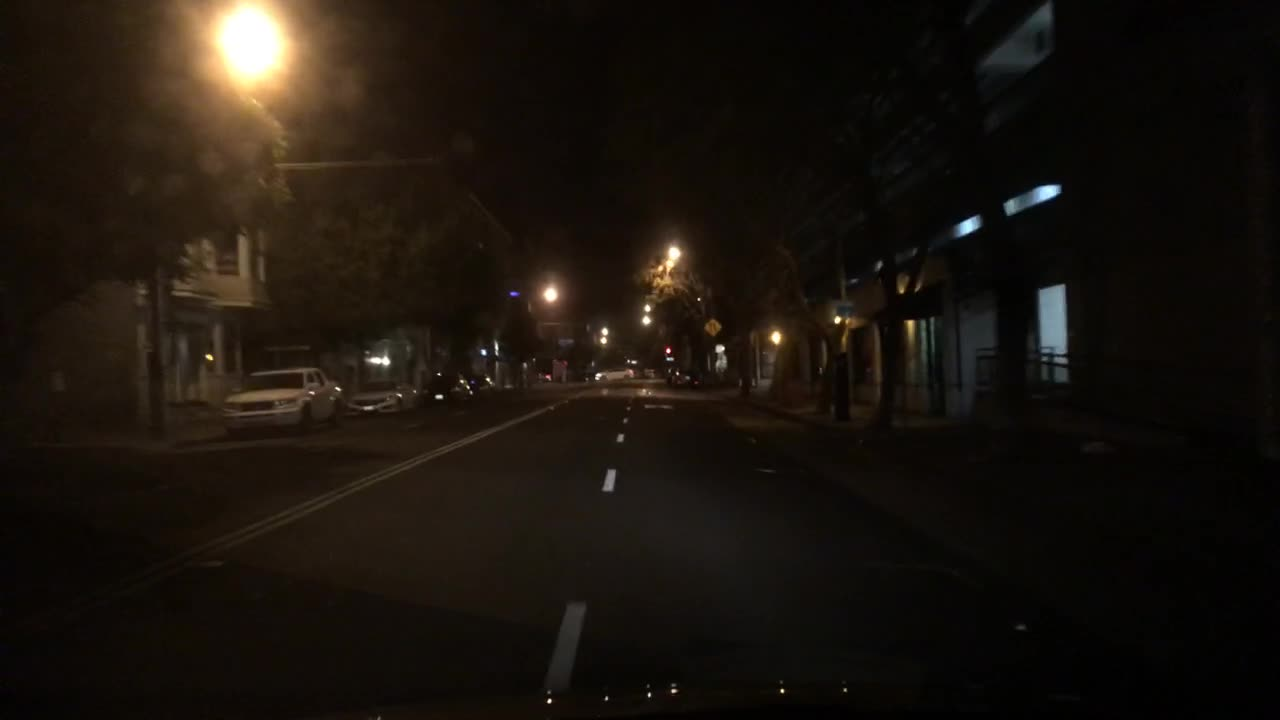car: (219, 367, 347, 437), (346, 377, 419, 417), (420, 369, 474, 411), (466, 369, 496, 398), (594, 363, 633, 382), (670, 368, 703, 388)
traffic sign: (702, 319, 725, 336)
